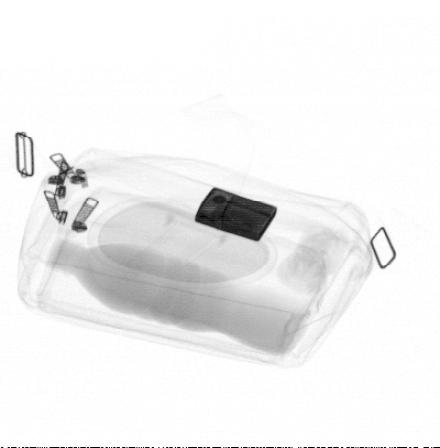Lighter: (194, 186, 277, 242)
